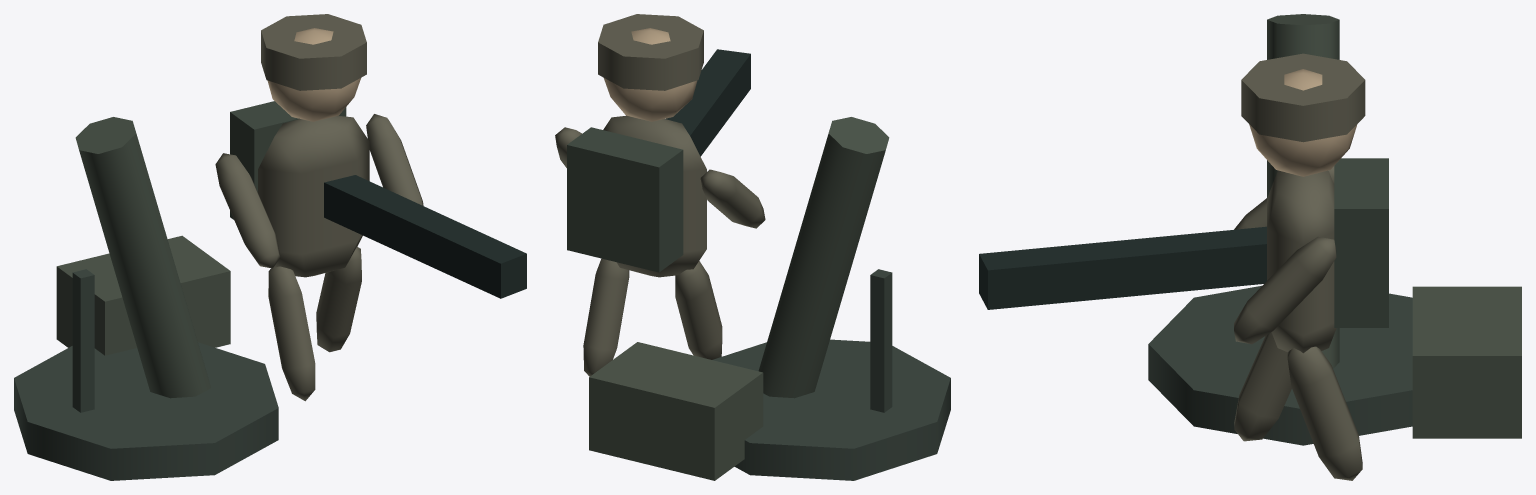
The model's file is mortar.glb.
The picture shows the model from 3 angles, left to right: view 1: azimuth 30°, elevation 25°; view 2: azimuth 150°, elevation 25°; view 3: azimuth 270°, elevation 25°; orthographic projection. The views are drawn at different scales.
Visible parts, largest first — view 1: mortar; view 2: mortar; view 3: mortar.
Part boxes in pixels (x1,y1,x2,y2): mortar: [14, 14, 526, 480]; mortar: [555, 14, 950, 480]; mortar: [979, 14, 1521, 480].
Size of the model in its own units: 2.7 by 2.44 by 2.98.
